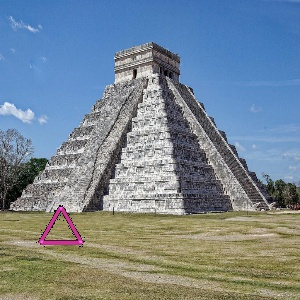triangle: (35, 203, 86, 249)
